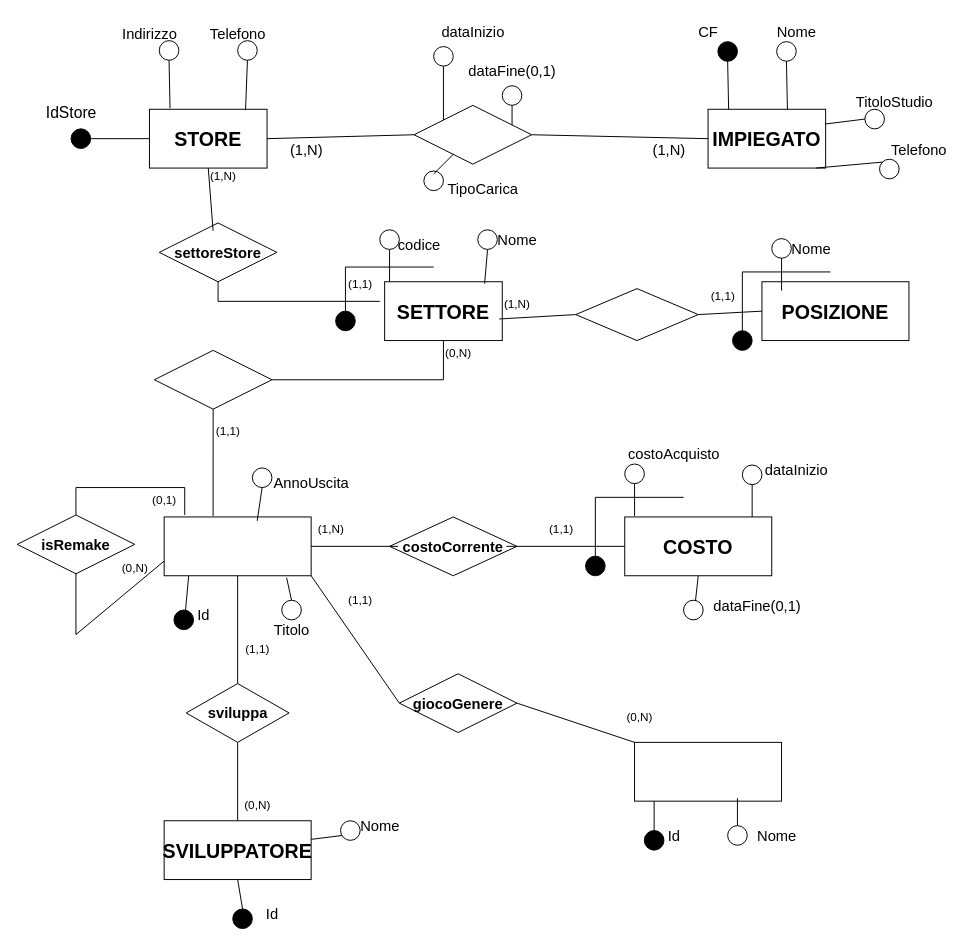
This 975x946 diagram has some shape labels left out. The centre of each missing label's shape, as x and y in pixels:
"GENERE" belongs at (708,771).
"giocoSettore" belongs at (212,379).
"posizioneSettore" belongs at (636,314).
"prestaServizio" belongs at (472,134).
"VIDEOGIOCO" belongs at (237,546).
